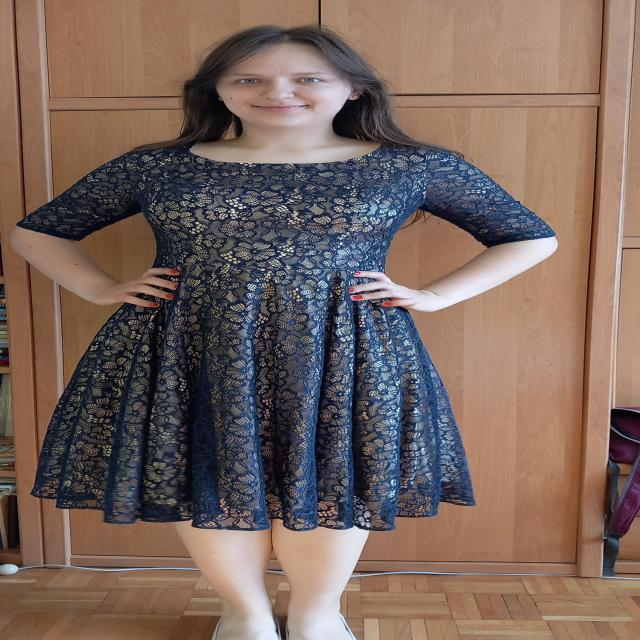dress: (16, 140, 557, 532)
